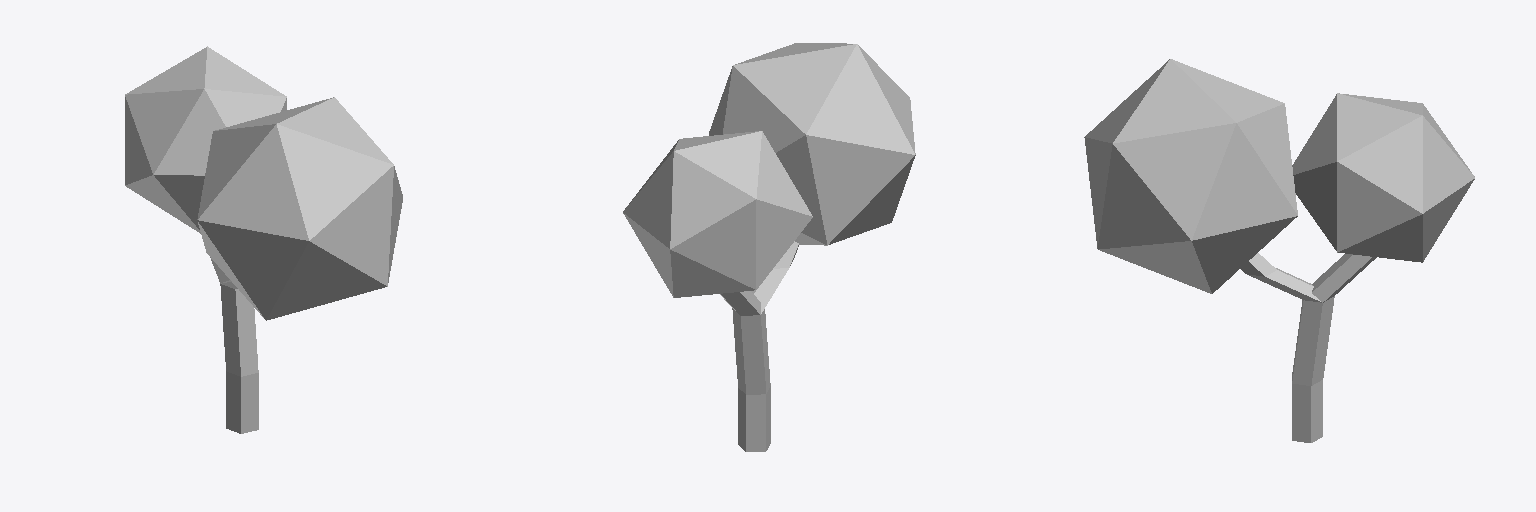
File: trees-2.obj
3 views of the same model, side by side, from view 1: azimuth 30°, elevation 25°; view 2: azimuth 150°, elevation 25°; view 3: azimuth 270°, elevation 25° (orthographic).
Parts seen in each view (by area): view 1: Cylinder; view 2: Cylinder; view 3: Cylinder.
Boxes of the visible parts, <box> form: Cylinder: <box>125,46,402,433</box>; Cylinder: <box>623,43,915,451</box>; Cylinder: <box>1084,59,1474,442</box>.
Size of the model in its own units: 8.3 by 13.87 by 13.62.